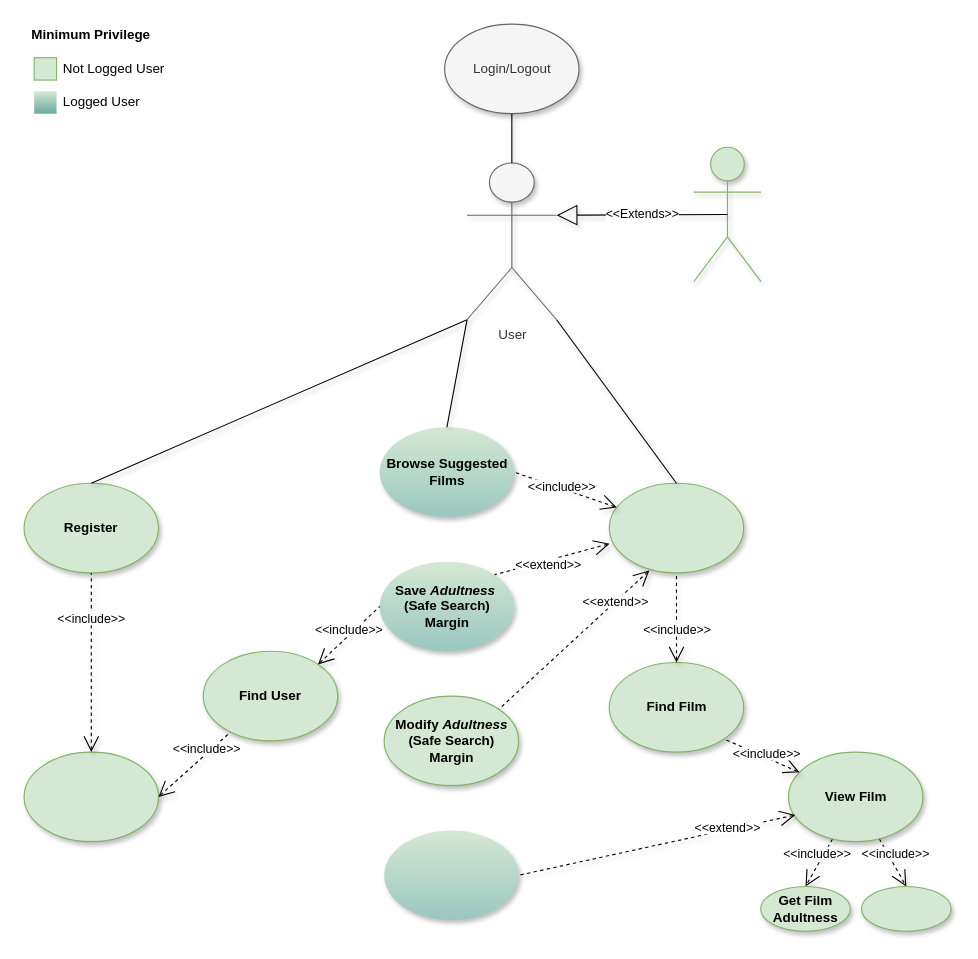
Image size: 978x959. Some labels were removed from this diagram. The centre of each missing label's shape, as x and y in pixels:
Add/Remove Favorite: point (452, 876)
Browse Film: point (677, 529)
Get Film Tags: point (907, 910)
Normal User: point (728, 216)
View User: point (91, 798)
